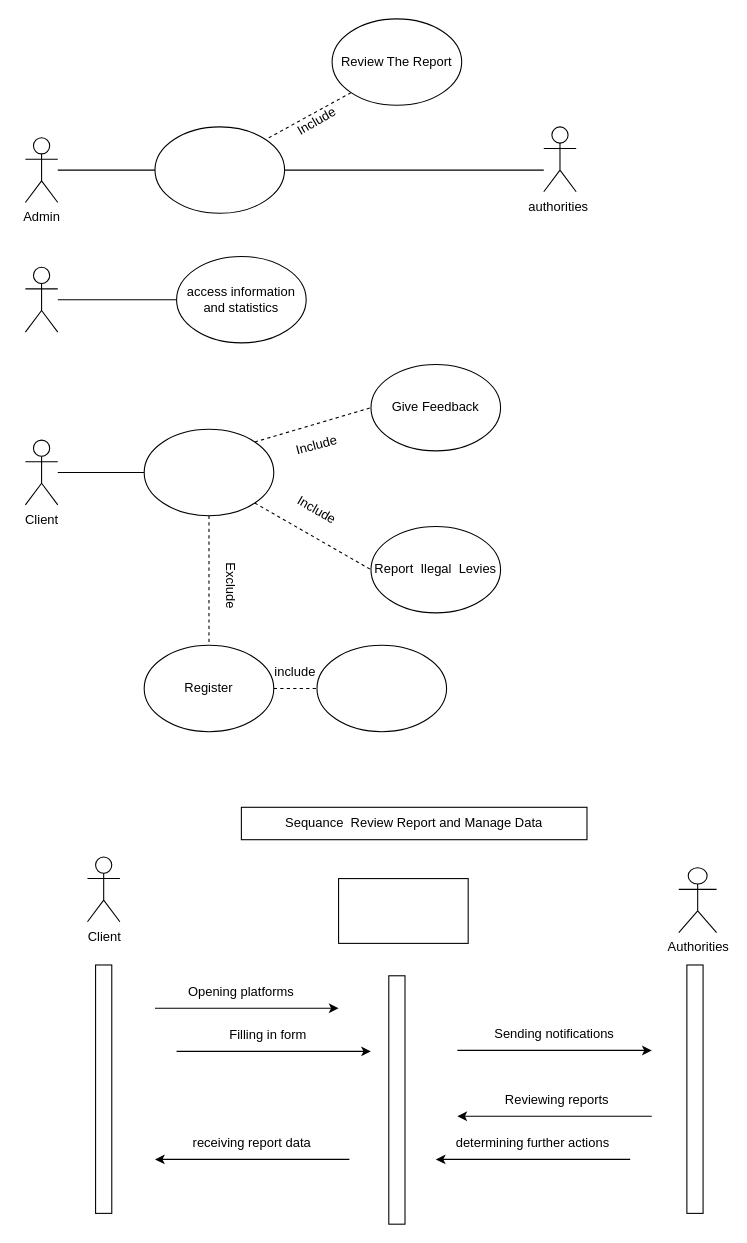
This 747x1243 diagram has some shape labels left out. The shapes that lost their labels are listed below. From the top down, each one's centre as x and y in pixels, then its label:
At (219,169): "Manage Data".
At (41,299): "General".
At (208,472): "Login".
At (381,688): "data validation".
At (403,910): "System".
